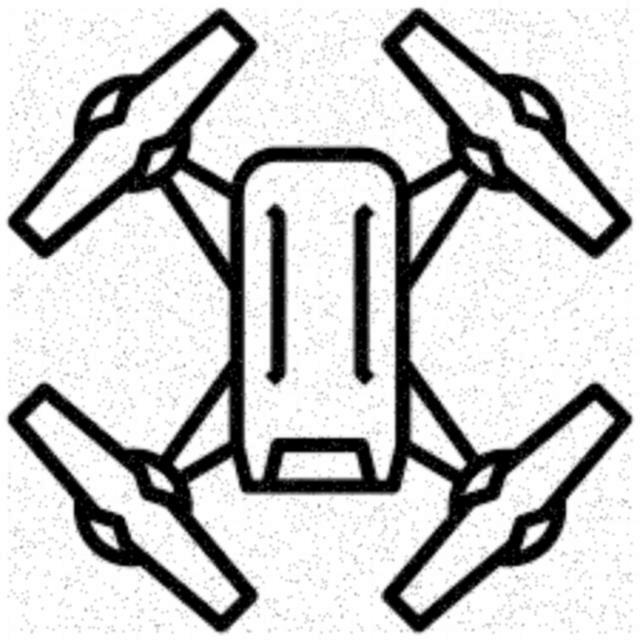drone: (9, 10, 633, 634)
